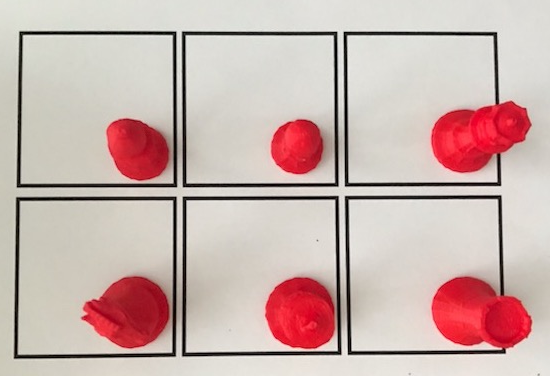Red Castle: (423, 264, 531, 362)
Red King: (259, 267, 346, 357), (96, 108, 178, 186)
Red Knight: (83, 265, 177, 362)
Red Pawn: (262, 107, 331, 184)
Red Queen: (419, 95, 533, 184)
